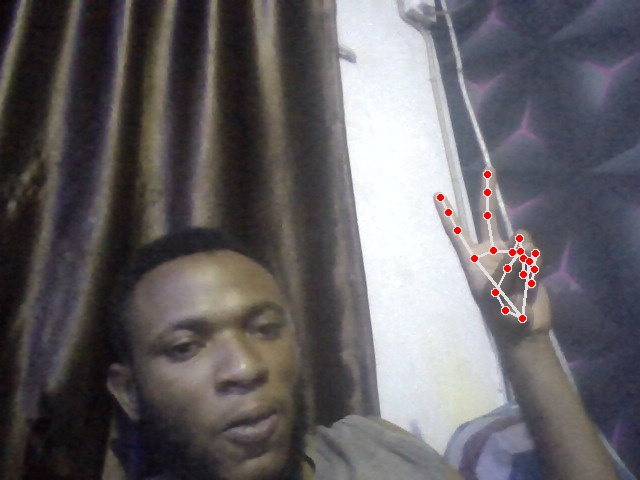peace: (434, 166, 554, 336)
